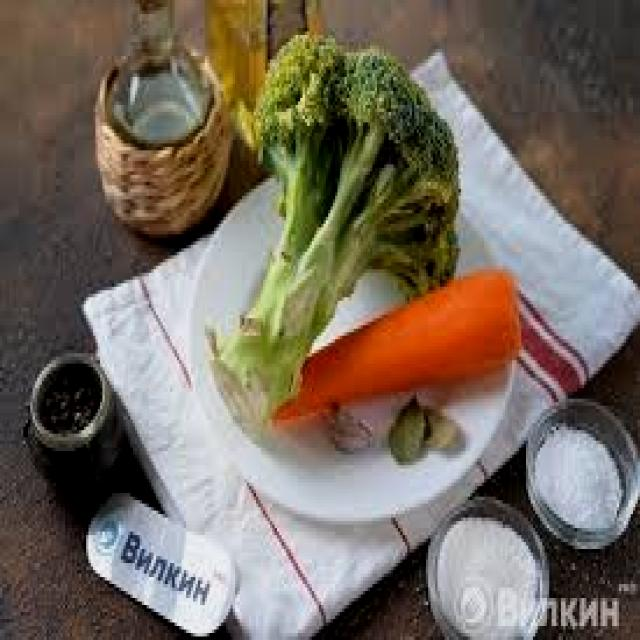broccoli: (229, 22, 460, 412)
garlic: (276, 260, 536, 430)
